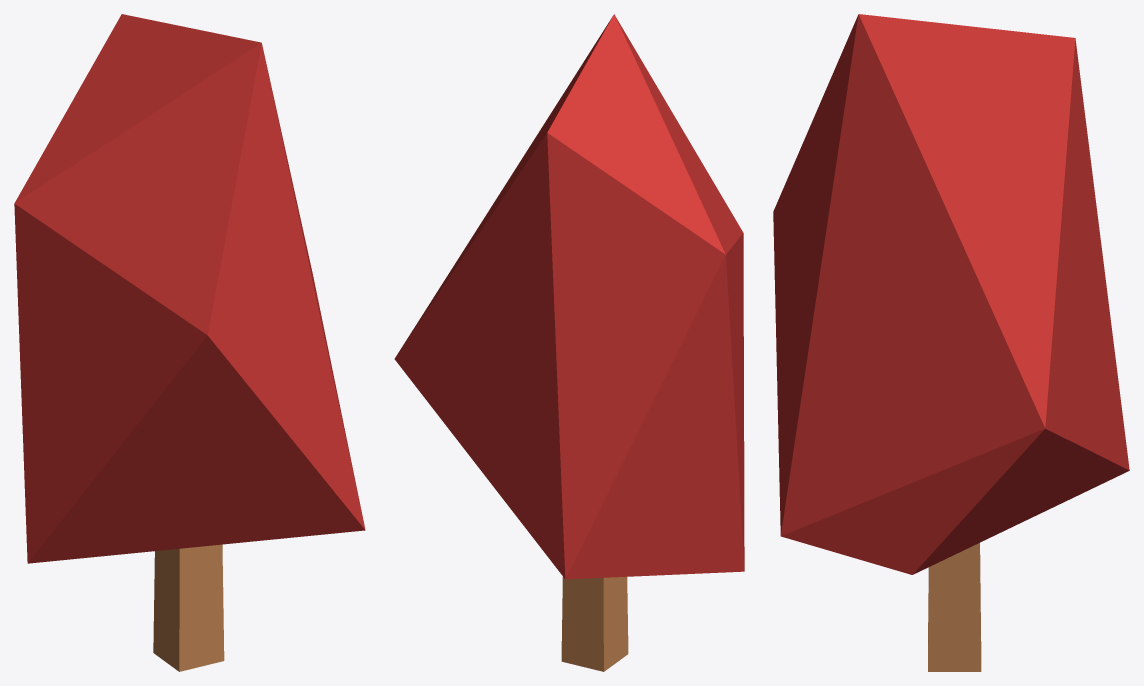
The model's file is world_3_brush_1.dae.
3 renders of one model, left to right at view 1: azimuth 30°, elevation 25°; view 2: azimuth 150°, elevation 25°; view 3: azimuth 270°, elevation 25°, orthographic. The views are drawn at different scales.
Visible parts, largest first — view 1: world_3_brush_1_leaves, world_3_brush_1_base; view 2: world_3_brush_1_leaves, world_3_brush_1_base; view 3: world_3_brush_1_leaves, world_3_brush_1_base.
Part boxes in pixels (x1,y1,x2,y2): world_3_brush_1_leaves: [14, 14, 365, 563]; world_3_brush_1_base: [153, 544, 224, 671]; world_3_brush_1_leaves: [394, 14, 744, 579]; world_3_brush_1_base: [561, 576, 628, 671]; world_3_brush_1_leaves: [773, 14, 1129, 574]; world_3_brush_1_base: [928, 543, 981, 671].
Size of the model in its own units: 0.2491 by 0.2278 by 0.4653.
